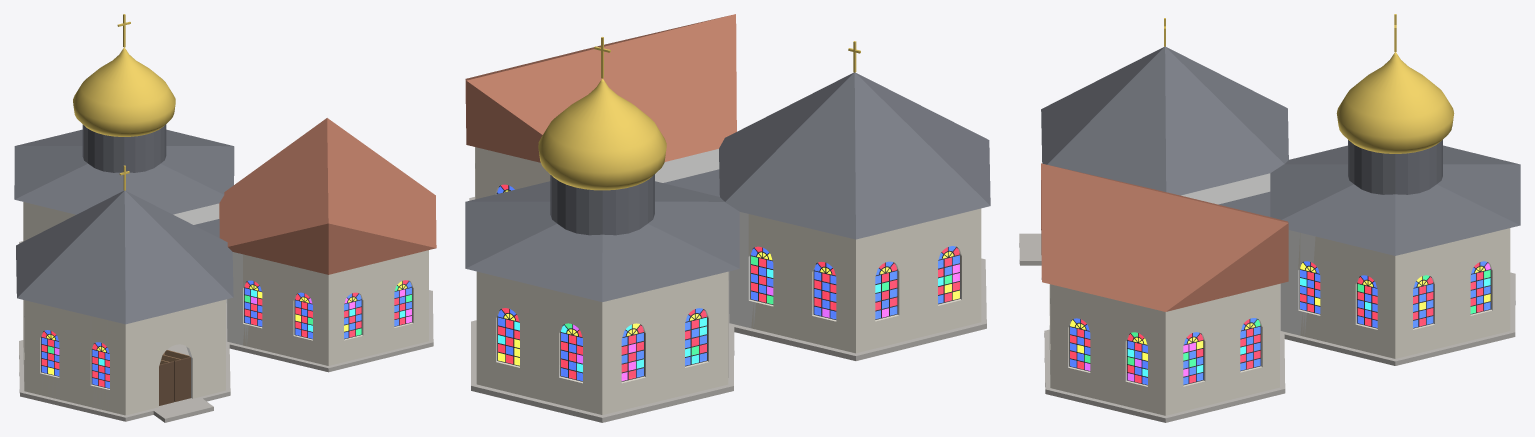
File: churchv4-interior.glb
The picture shows the model from 3 angles, left to right: view 1: azimuth 30°, elevation 25°; view 2: azimuth 150°, elevation 25°; view 3: azimuth 270°, elevation 25°; orthographic projection. The views are drawn at different scales.
Parts seen in each view (by area): view 1: Roof_ang, Roof_rom, Walls_roman, Walls_anglican, Roof_orth, Dome, Floor, Lead_cames, StainedGlass_cobalt, Walls_orthodox, StainedGlass_ruby, Door; view 2: Roof_rom, Roof_orth, Walls_orthodox, Walls_roman, Roof_ang, Dome, Floor, Walls_anglican, Lead_cames, StainedGlass_cobalt, StainedGlass_ruby, StainedGlass_amber (+3 smaller); view 3: Roof_ang, Roof_rom, Roof_orth, Walls_anglican, Walls_orthodox, Dome, Floor, StainedGlass_cobalt, Lead_cames, StainedGlass_ruby, Walls_roman, StainedGlass_amber (+2 smaller).
Part boxes in pixels (<box>): Roof_ang: <box>219,118,436,274</box>; Roof_rom: <box>16,190,233,324</box>; Walls_roman: <box>23,299,225,415</box>; Walls_anglican: <box>226,250,428,365</box>; Roof_orth: <box>14,124,234,214</box>; Dome: <box>73,47,175,136</box>; Floor: <box>19,241,433,422</box>; Lead_cames: <box>41,281,412,388</box>; StainedGlass_cobalt: <box>41,280,411,388</box>; Walls_orthodox: <box>23,202,219,241</box>; StainedGlass_ruby: <box>41,280,408,386</box>; Door: <box>159,357,190,405</box>; Roof_rom: <box>719,72,990,239</box>; Roof_orth: <box>465,174,739,302</box>; Walls_orthodox: <box>476,271,728,414</box>; Walls_roman: <box>728,208,981,353</box>; Roof_ang: <box>465,14,736,162</box>; Dome: <box>538,78,666,190</box>; Floor: <box>469,197,986,422</box>; Walls_anglican: <box>475,147,719,199</box>; Lead_cames: <box>496,185,960,381</box>; StainedGlass_cobalt: <box>497,185,959,380</box>; StainedGlass_ruby: <box>498,184,959,379</box>; StainedGlass_amber: <box>498,190,959,365</box>; Roof_ang: <box>1041,163,1288,311</box>; Roof_rom: <box>1041,46,1288,195</box>; Roof_orth: <box>1270,140,1520,255</box>; Walls_anglican: <box>1049,284,1279,415</box>; Walls_orthodox: <box>1280,228,1510,358</box>; Dome: <box>1336,52,1454,153</box>; Floor: <box>1019,233,1515,422</box>; StainedGlass_cobalt: <box>1070,261,1490,384</box>; Lead_cames: <box>1069,262,1491,385</box>; StainedGlass_ruby: <box>1070,262,1483,383</box>; Walls_roman: <box>1181,173,1270,204</box>; StainedGlass_amber: <box>1070,263,1490,360</box>.
Size of what is drawn, in the model's own units: 32.43 by 19.7 by 29.45.
